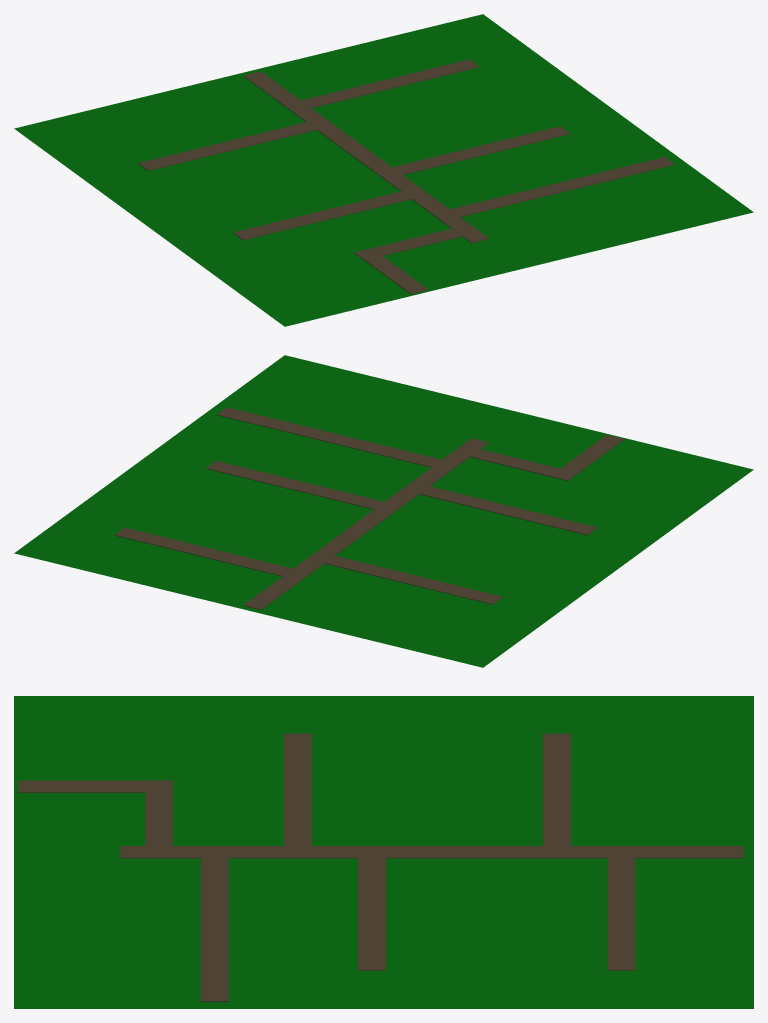
File: Lobby Floor.glb
The picture shows the model from 3 angles, top to bottom: view 1: azimuth 30°, elevation 25°; view 2: azimuth 150°, elevation 25°; view 3: azimuth 270°, elevation 25°; orthographic projection. The views are drawn at different scales.
Visible parts, largest first — view 1: Grass Floor, Path, Path.003, Path.002, Path.001, Path.006, Path.007, Path.004, Path.005; view 2: Grass Floor, Path, Path.003, Path.001, Path.002, Path.006, Path.007, Path.004, Path.005; view 3: Grass Floor, Path, Path.003, Path.007, Path.006, Path.001, Path.002, Path.004, Path.005.
Part boxes in pixels (x1,y1,x2,y2): Grass Floor: (14,14,753,326); Path: (244,71,489,242); Path.003: (450,157,675,217); Path.002: (233,191,411,240); Path.001: (138,122,316,170); Path.006: (392,126,570,174); Path.007: (301,59,478,108); Path.004: (354,228,462,260); Path.005: (364,255,428,294); Grass Floor: (14,355,753,667); Path: (243,438,489,609); Path.003: (217,407,441,467); Path.001: (324,555,502,604); Path.002: (419,486,597,535); Path.006: (206,460,384,509); Path.007: (114,527,292,576); Path.004: (470,449,578,480); Path.005: (561,435,624,472); Grass Floor: (14,696,753,1008); Path: (120,846,743,858); Path.003: (201,857,228,1001); Path.007: (607,857,635,970); Path.006: (358,857,385,970); Path.001: (543,733,570,845); Path.002: (284,733,311,845); Path.004: (145,780,172,845); Path.005: (18,780,145,792).
Bounding box in the file's own units: 80 × 0.2 × 80.
